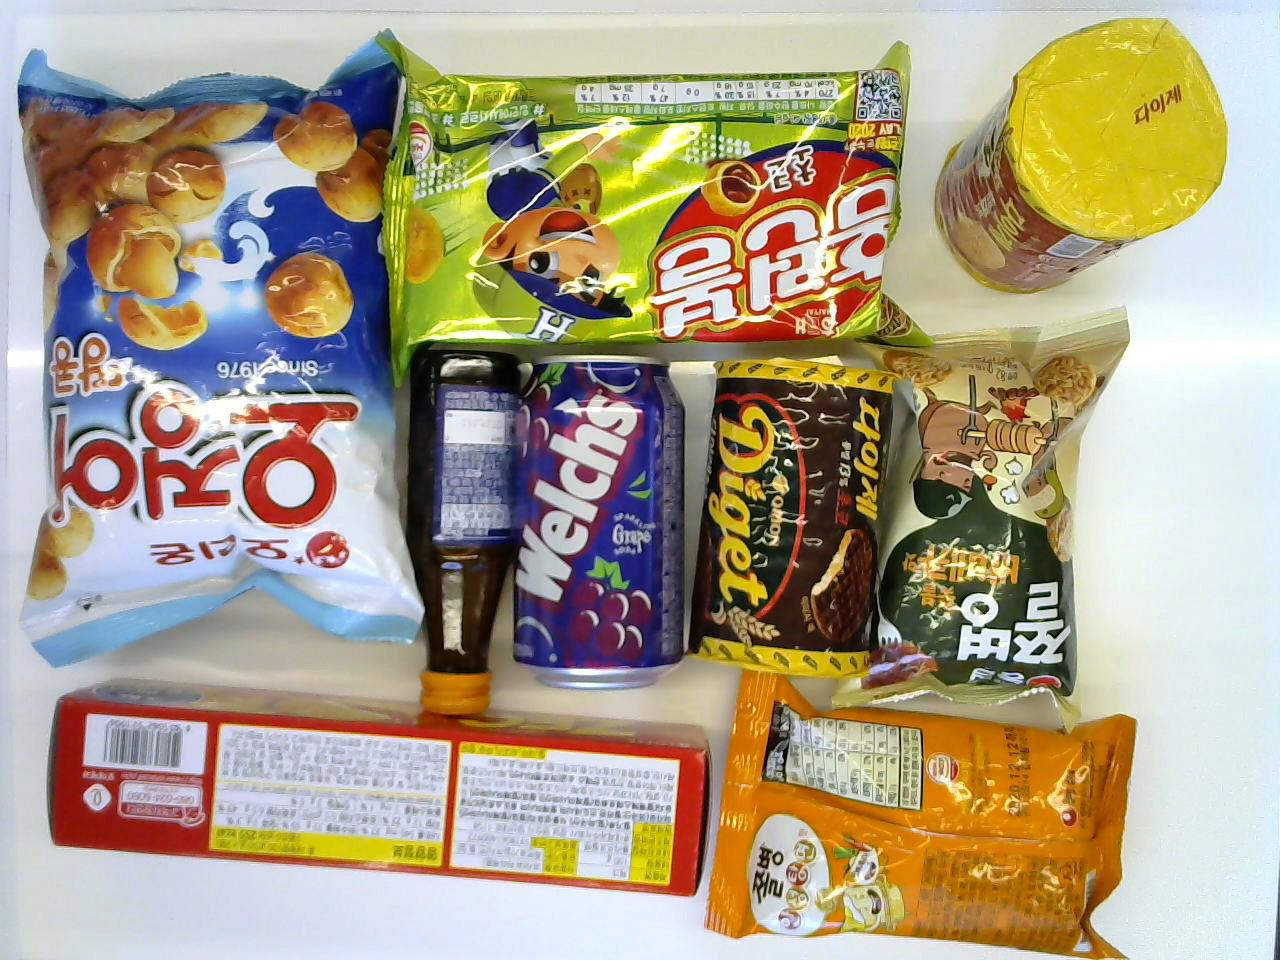diget_choco: (684, 350, 890, 677)
diget_ori: (928, 14, 1231, 295)
homerunball: (371, 25, 935, 365)
jjolbyung_noodle: (699, 671, 1147, 958)
jjolbyung_ori: (854, 312, 1138, 731)
squid_peanut: (16, 33, 429, 670)
vita500: (406, 345, 525, 720)
welchs: (510, 352, 693, 696)
zec: (42, 678, 709, 899)
